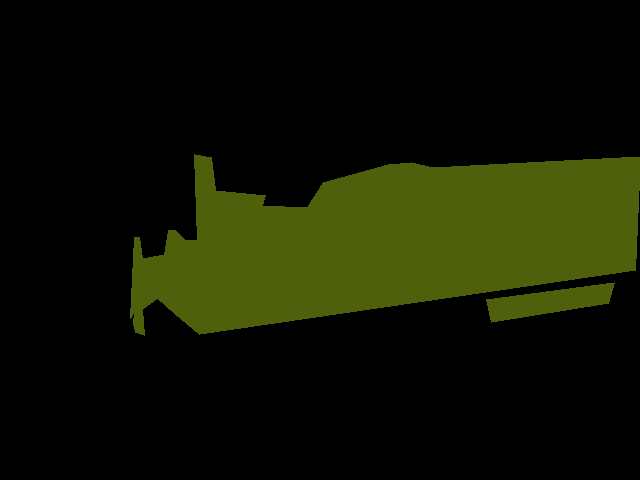Train: (130, 154, 640, 336)
